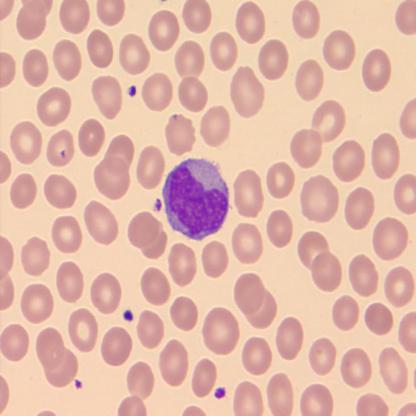Monocyte: (161, 156, 231, 242)
